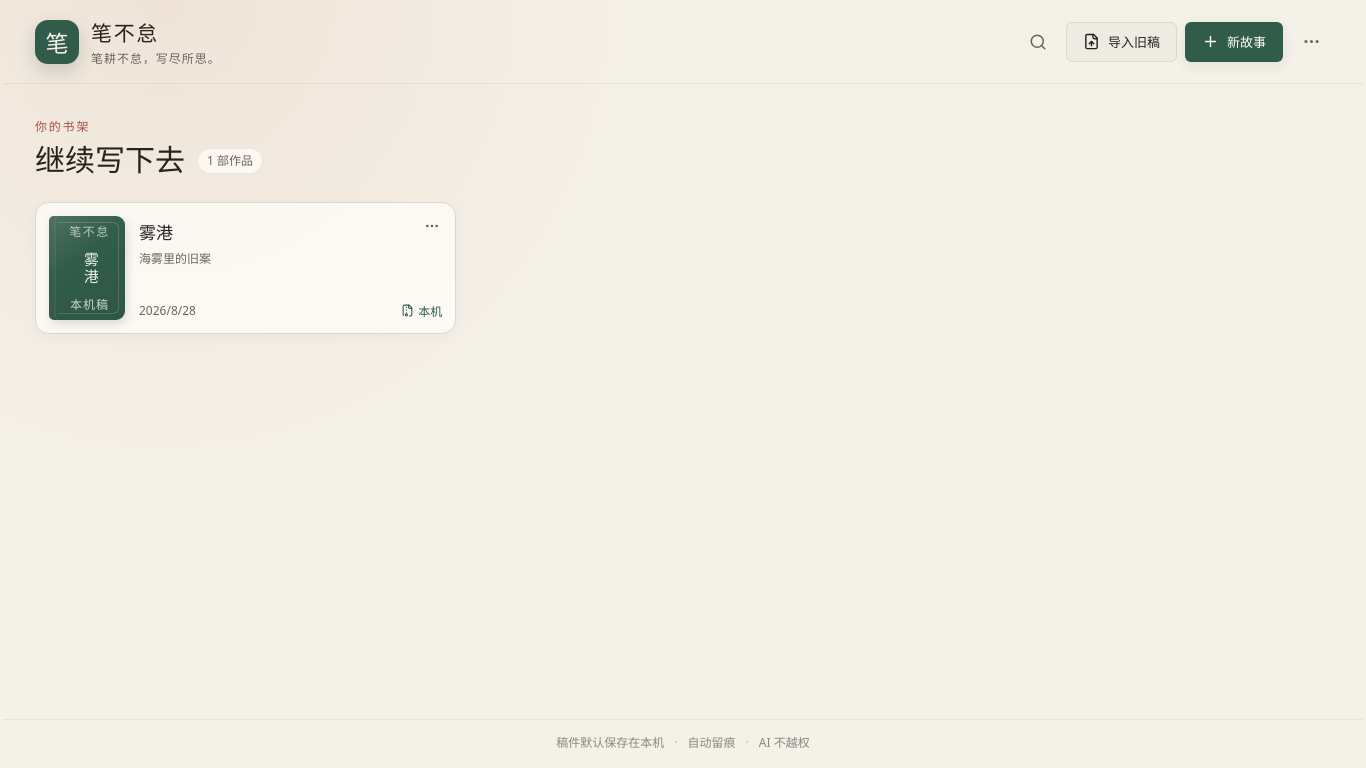
Test: Bookshelf shell › restores selected trash items as one operation and keeps the list truthful
The image size is (1366, 768).
Click the button named "书架更多操作": click(1311, 42) [1291, 22, 1331, 62]
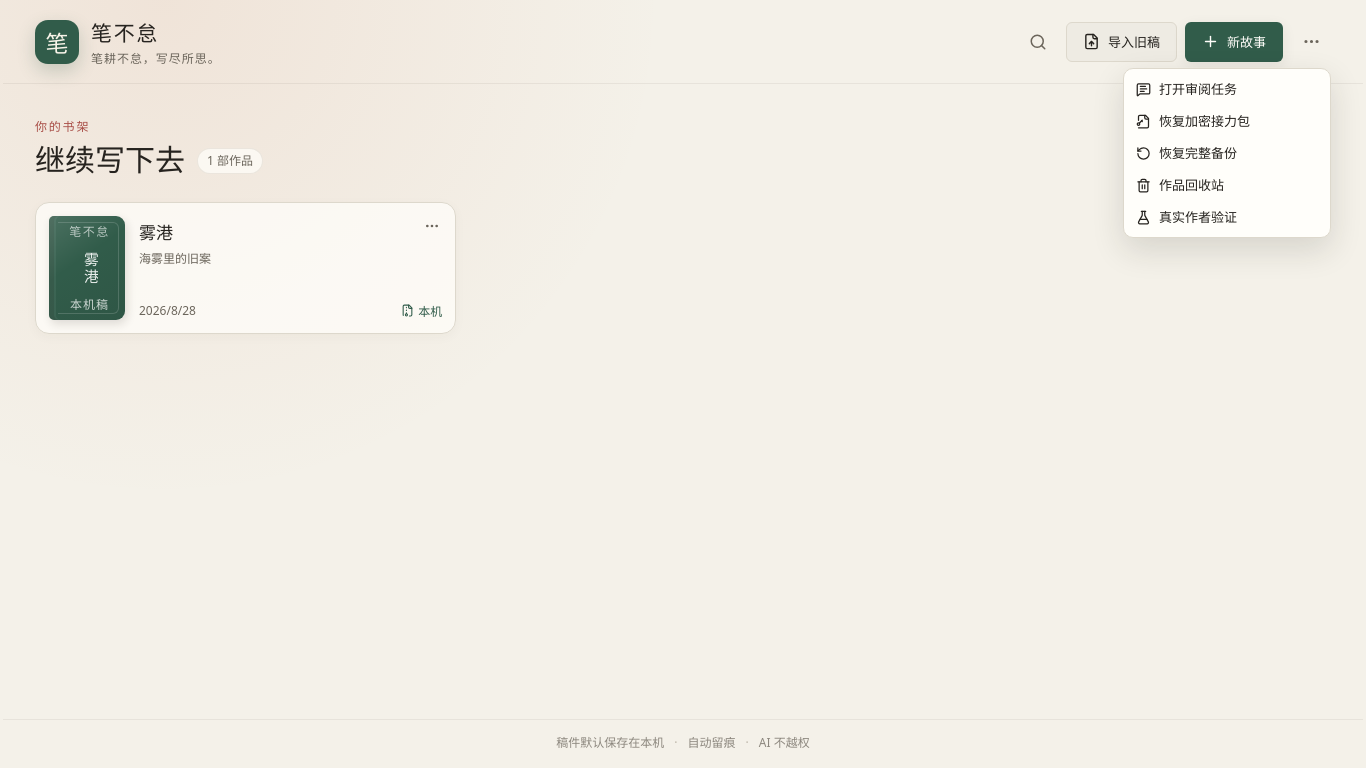
Click the menu item "作品回收站": click(1180, 185) [1136, 176, 1224, 194]
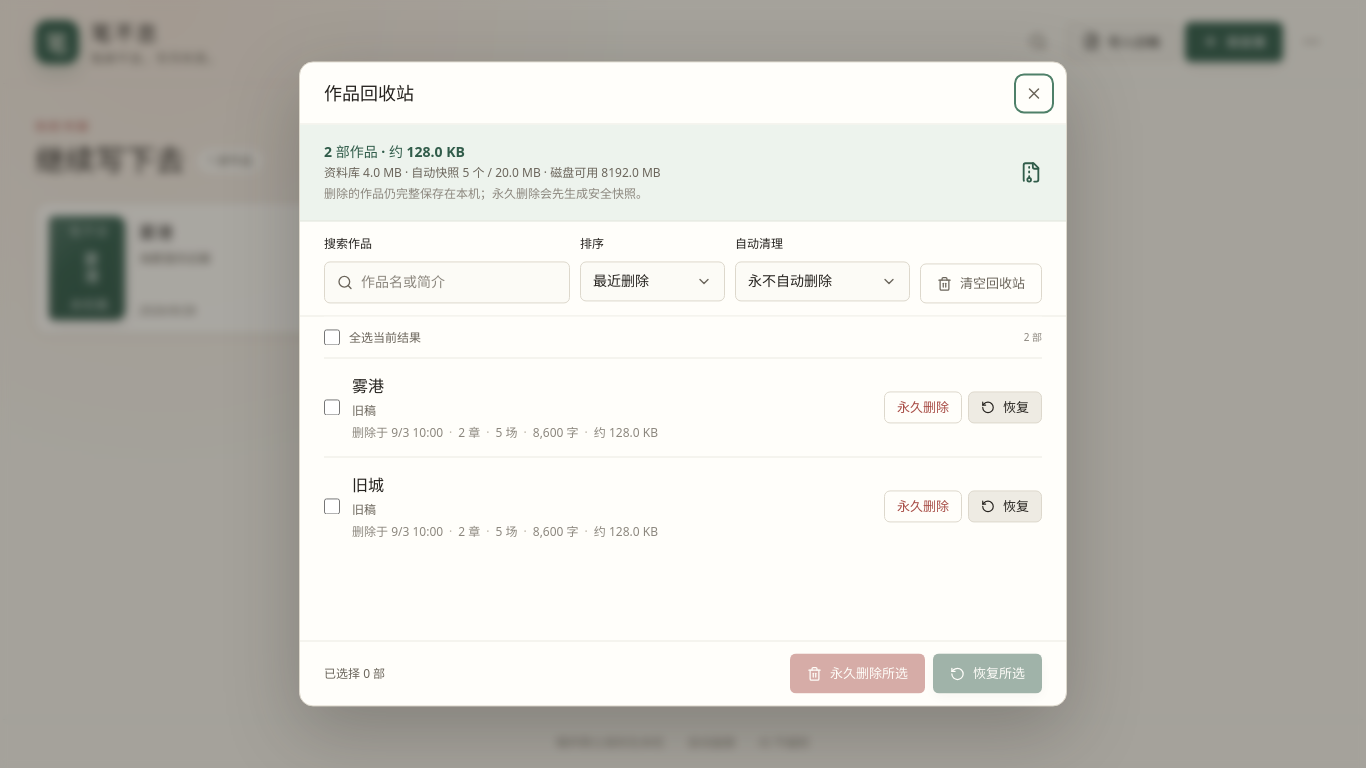
Expected: the dialog "作品回收站" is shown, [299, 61, 1067, 706]
Click the checkbox labelled "全选当前结果": click(332, 337) [324, 329, 340, 345]
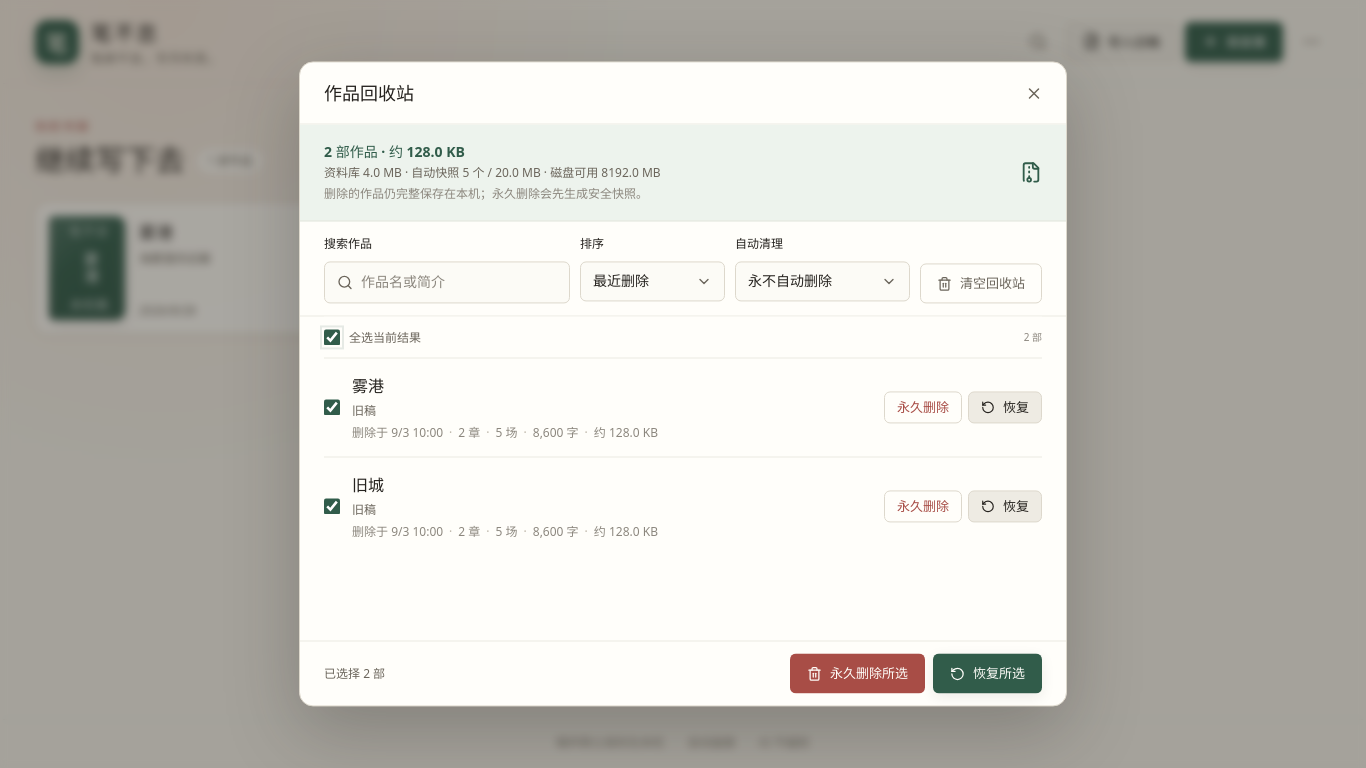
Click the button "恢复所选": click(988, 674) [933, 654, 1042, 694]
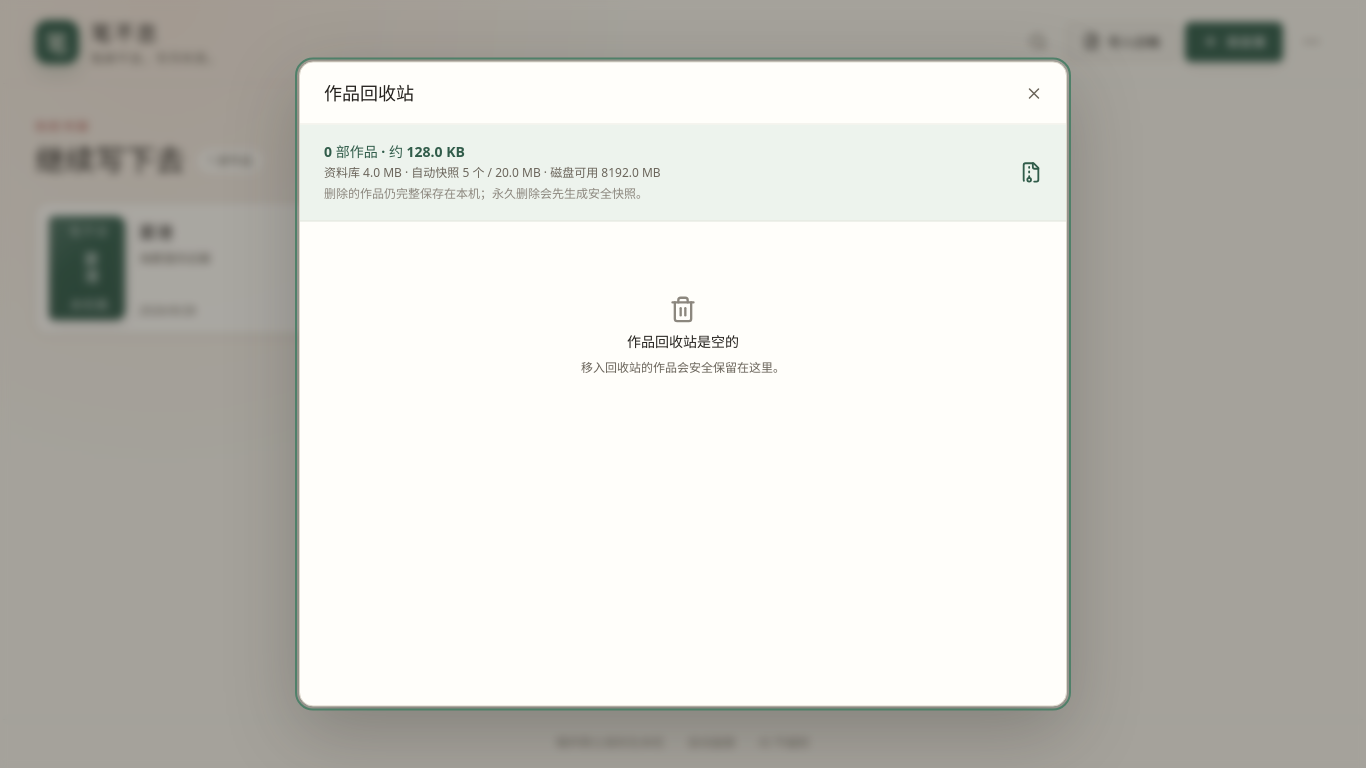
Expected: the text "作品回收站是空的" is shown, [627, 331, 739, 351]
